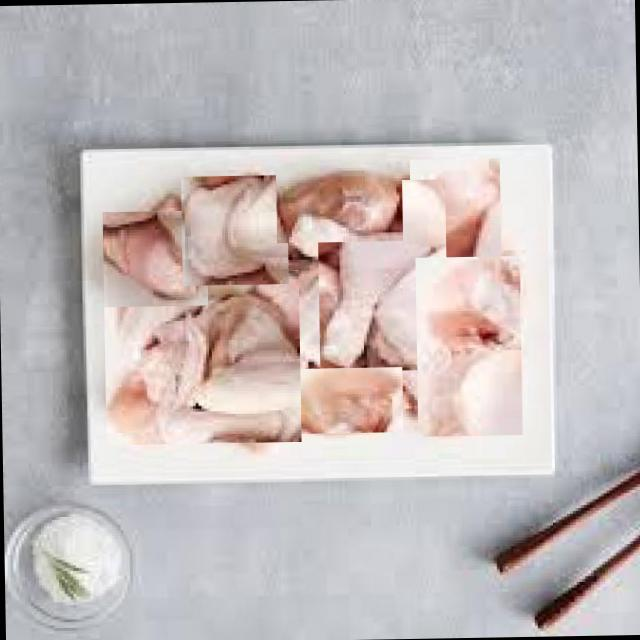chicken: (108, 263, 296, 450), (300, 195, 462, 356), (415, 255, 523, 438), (180, 175, 290, 285), (402, 164, 508, 270), (104, 208, 205, 310), (276, 170, 402, 242), (289, 366, 404, 434)
